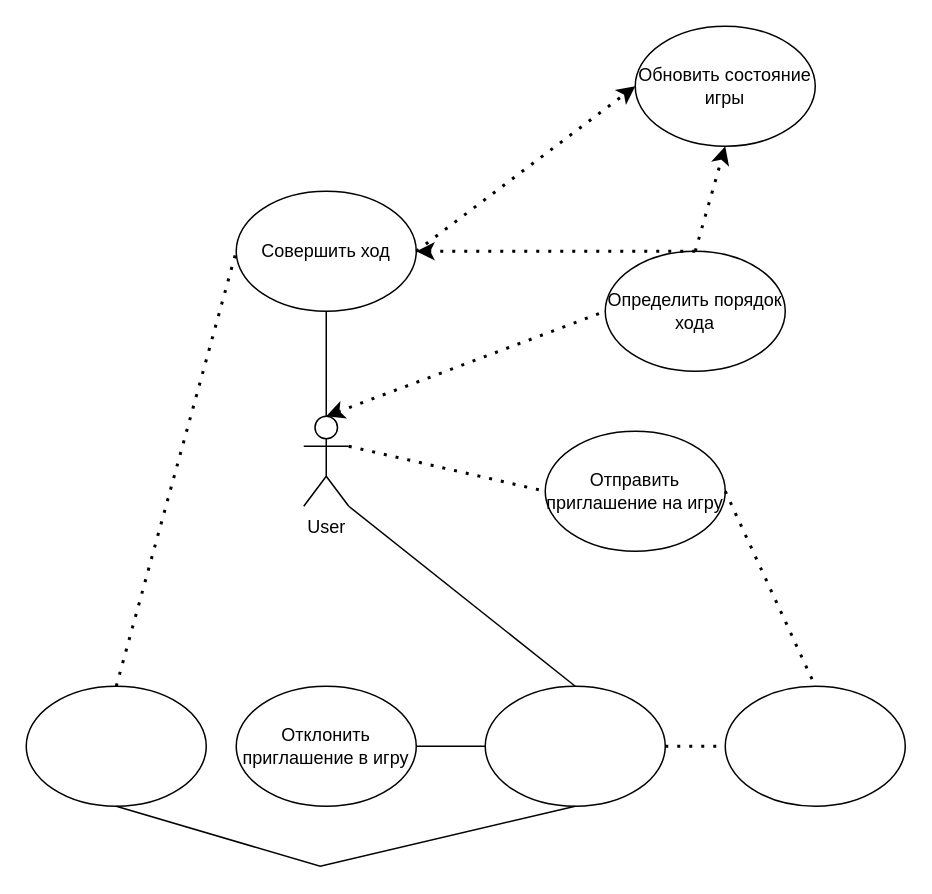
This 932x894 diagram has some shape labels left out. Each missing label, with the centre of its shape:
"Посмотреть список активных игроков" belongs at pixel 814 745.
"Приготовиться к игре" belongs at pixel 574 745.
"Принять приглашение в игру" belongs at pixel 115 745.
